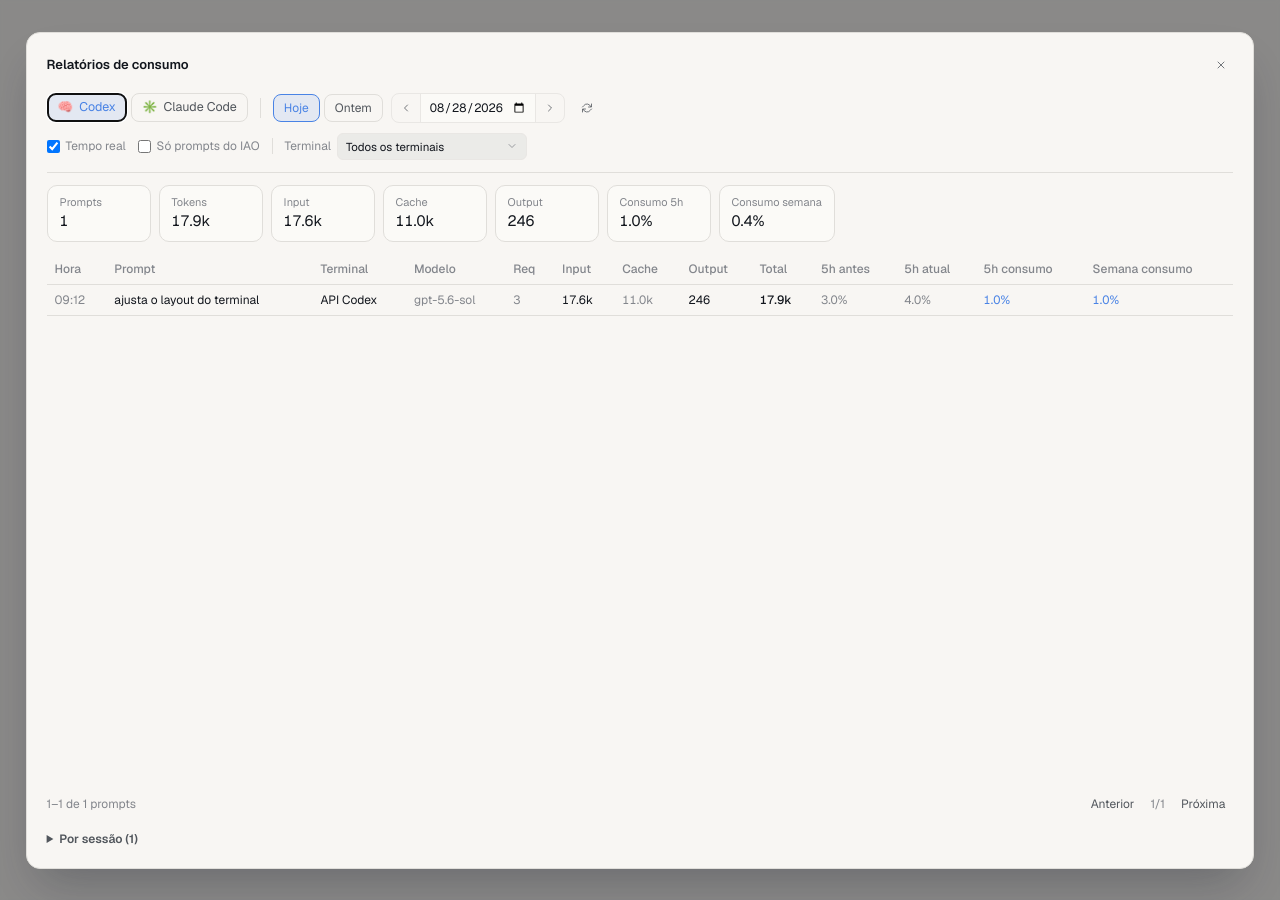
Test case: ReportsModal › abre o modal de detalhe ao clicar na linha do prompt
Click the text "ajusta o layout do terminal".
click(209, 300)  # box [106, 284, 312, 315]
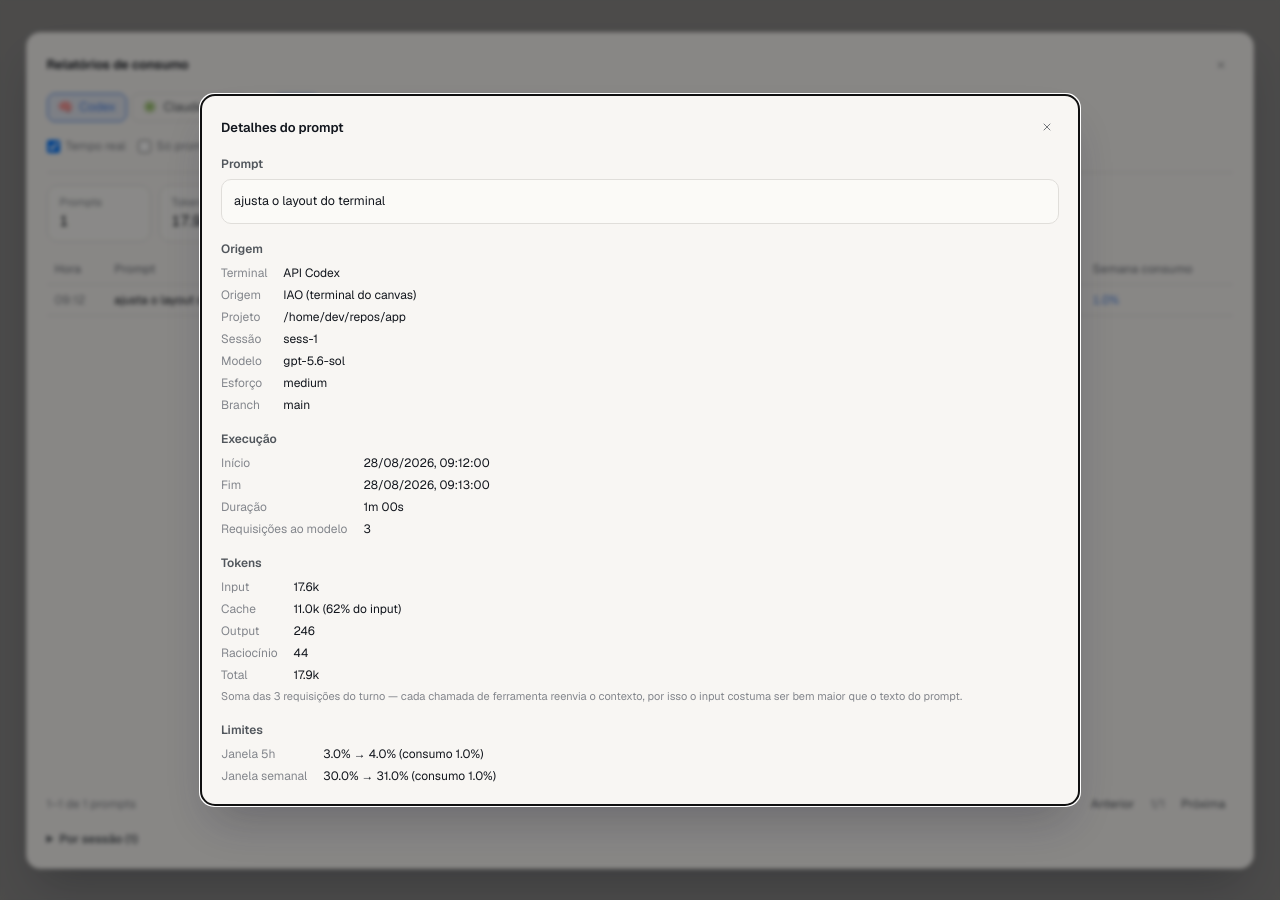
Now the heading "Detalhes do prompt" is shown, box [221, 118, 344, 137]
Now the text "Requisições ao modelo" is shown, box [221, 520, 347, 538]
Now the text "IAO (terminal do canvas)" is shown, box [283, 287, 416, 303]
